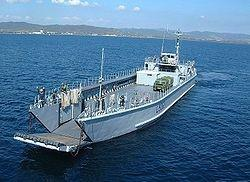warship: (18, 27, 194, 154)
